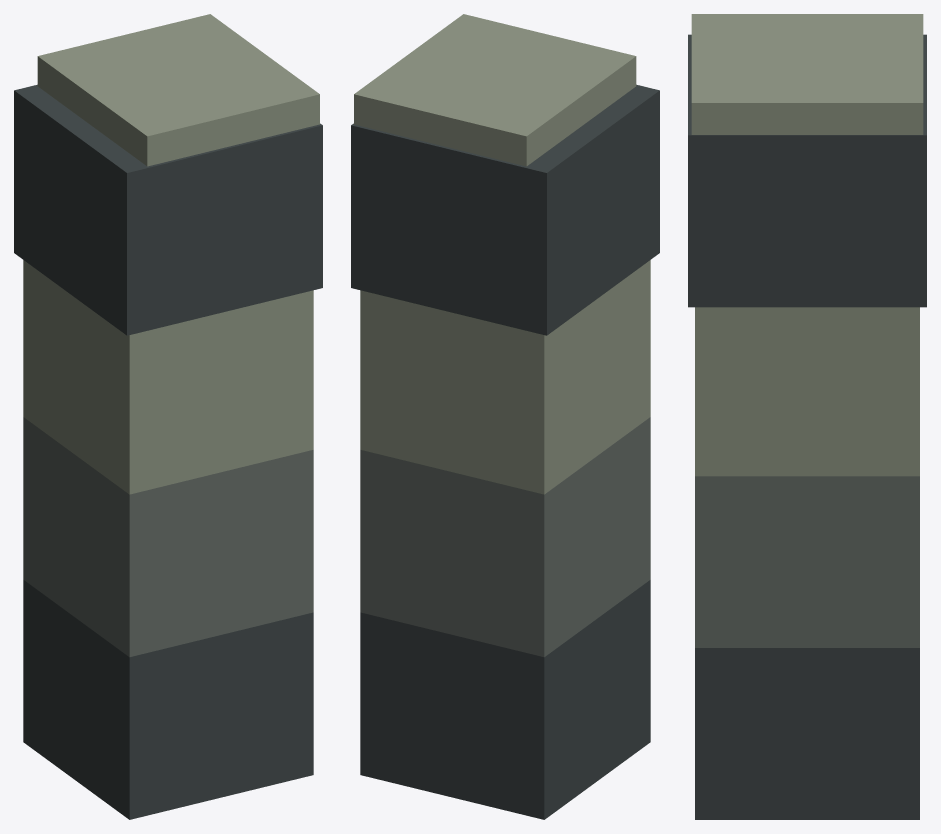
File: TW_STONE_POST_B_LOD0.glb
The picture shows the model from 3 angles, left to right: view 1: azimuth 30°, elevation 25°; view 2: azimuth 150°, elevation 25°; view 3: azimuth 270°, elevation 25°; orthographic projection. The views are drawn at different scales.
Visible parts, largest first — view 1: TW_STONE_POST_B_LOD0; view 2: TW_STONE_POST_B_LOD0; view 3: TW_STONE_POST_B_LOD0.
Boxes of the visible parts, left/top/right/bottom form: TW_STONE_POST_B_LOD0: left=14, top=14, right=322, bottom=819; TW_STONE_POST_B_LOD0: left=351, top=14, right=659, bottom=819; TW_STONE_POST_B_LOD0: left=688, top=14, right=926, bottom=819.
Size of the model in its own units: 0.34 by 1.13 by 0.34.
1 material, 1 textured.
